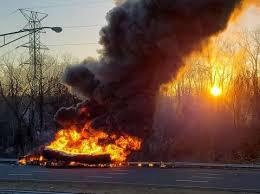fire: (156, 0, 259, 100), (26, 118, 143, 166)
